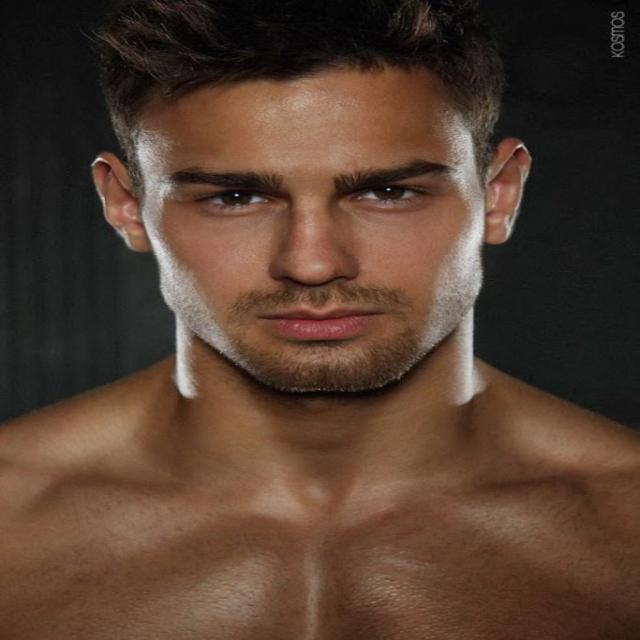earlobe: (91, 151, 155, 253), (482, 137, 532, 246)
